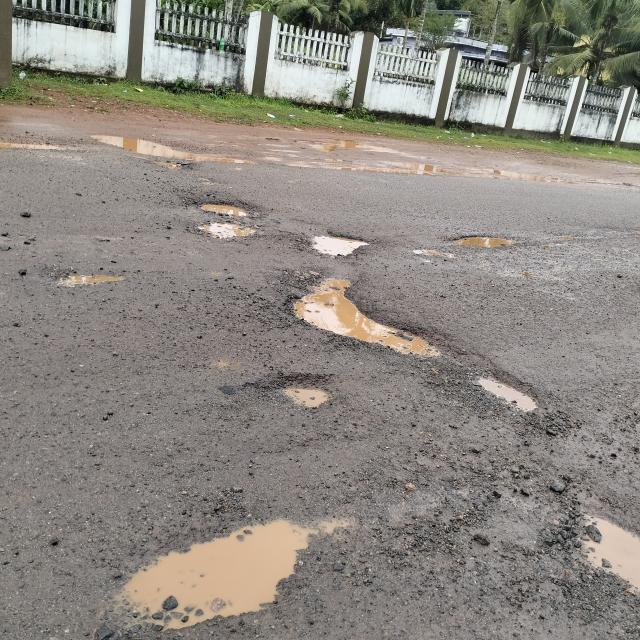pothole: (102, 508, 376, 638), (273, 268, 452, 370), (560, 478, 640, 624), (410, 230, 576, 282), (173, 191, 281, 254), (468, 354, 553, 426), (269, 370, 352, 423), (299, 223, 375, 264), (52, 262, 138, 296), (134, 158, 207, 182)
